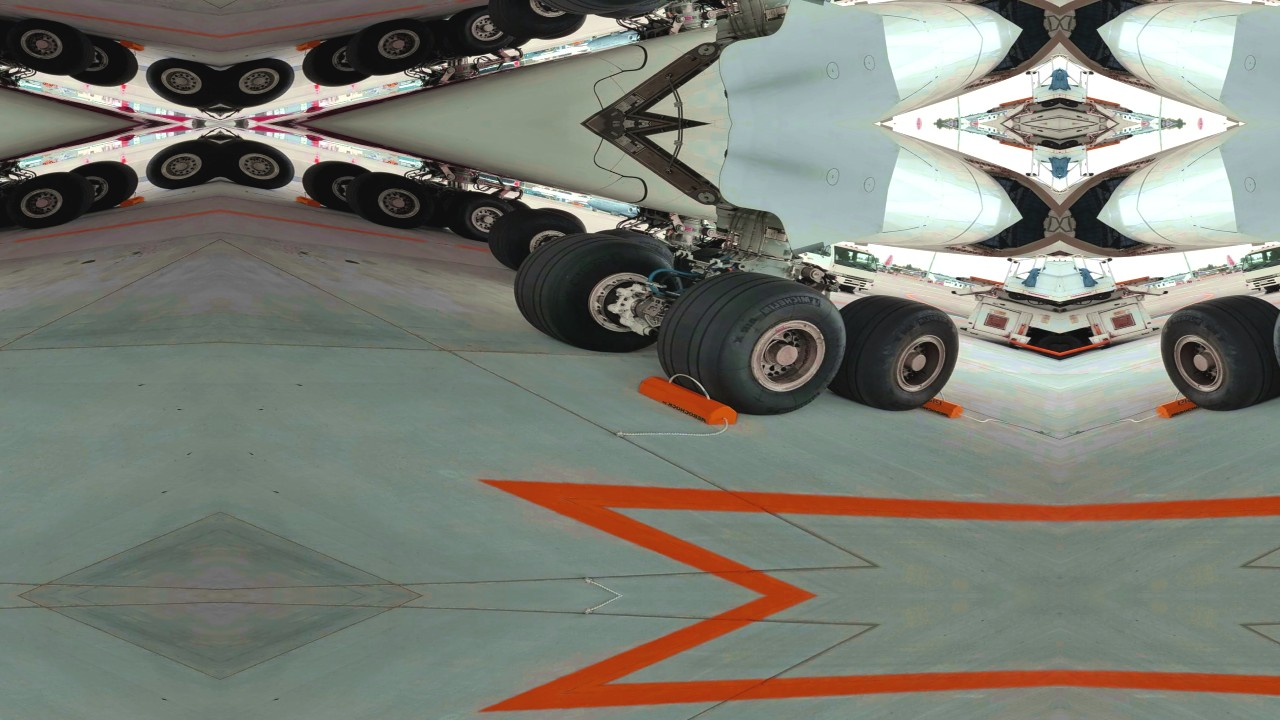chock: (633, 372, 747, 430), (878, 384, 969, 422), (1151, 384, 1242, 422), (114, 37, 150, 53), (290, 37, 326, 53), (114, 194, 150, 210), (290, 194, 326, 210)
wheel: (643, 251, 859, 429), (506, 214, 690, 366), (815, 283, 969, 422), (1151, 283, 1280, 422), (483, 196, 593, 282), (0, 12, 97, 82), (343, 12, 440, 82), (0, 165, 97, 235), (343, 165, 440, 235), (506, 0, 690, 33), (483, 0, 593, 51), (139, 52, 220, 116), (220, 52, 301, 116), (139, 131, 220, 195), (220, 131, 301, 195), (66, 31, 145, 95), (295, 31, 374, 95), (66, 152, 145, 216), (295, 152, 374, 216), (438, 0, 516, 63), (438, 184, 516, 247), (592, 222, 676, 261), (413, 15, 466, 69), (413, 178, 466, 232), (592, 0, 676, 25), (530, 15, 589, 44), (530, 203, 589, 232), (0, 15, 27, 69), (0, 178, 27, 232), (1030, 330, 1060, 365), (1060, 330, 1090, 365)
